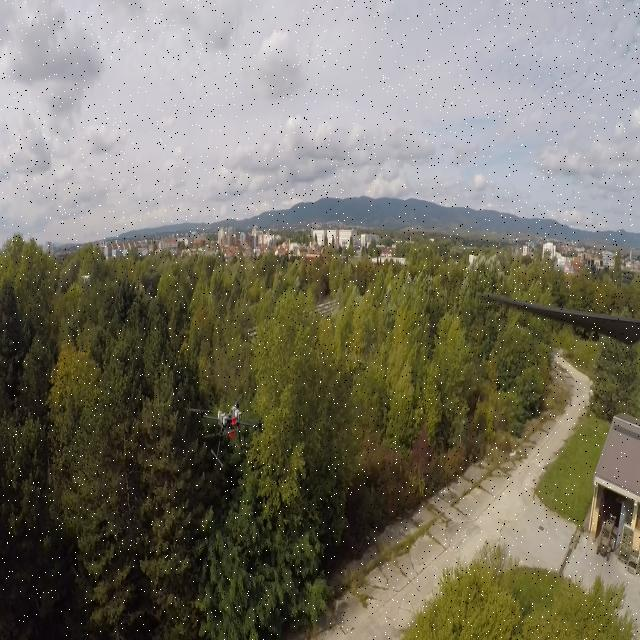UAV: (188, 389, 266, 471)
